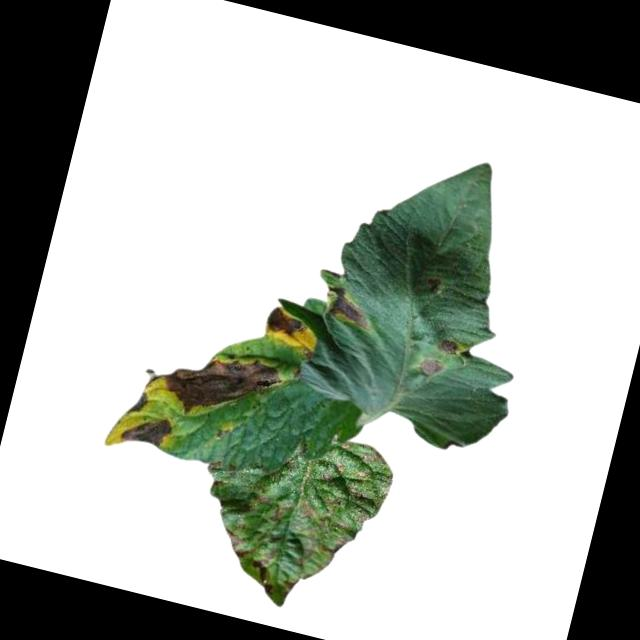Early_blight: (155, 336, 287, 435), (319, 281, 377, 331), (117, 407, 174, 451), (258, 301, 308, 341), (248, 541, 283, 593), (217, 522, 259, 560), (432, 330, 462, 356), (124, 386, 148, 416), (419, 354, 446, 379)
